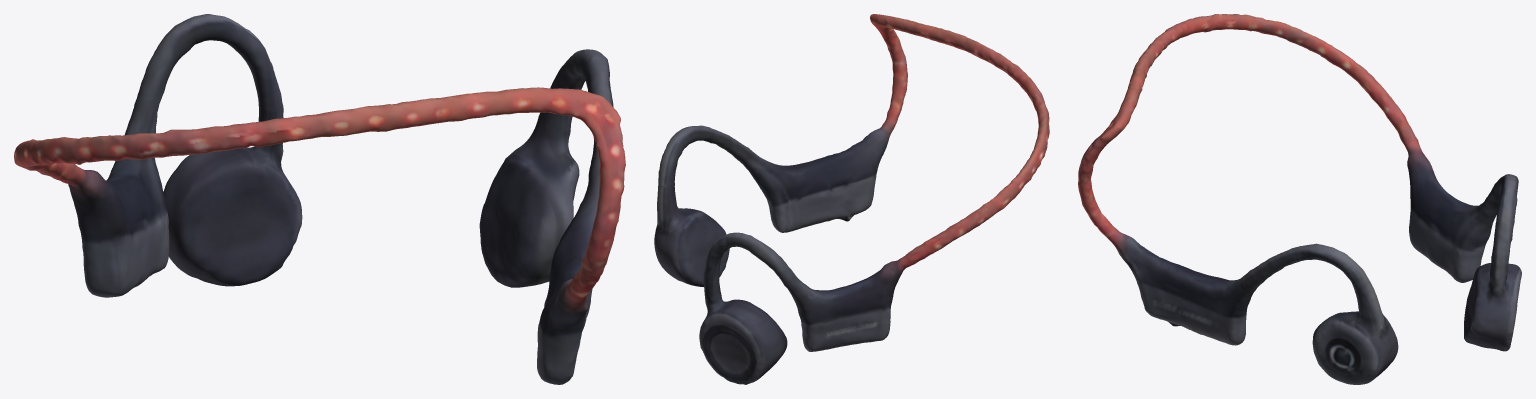
The model's file is 1737555523703-89d067f5-67f5-4a37-8a50-369d1c40d20a-headphone.glb.
3 views of the same model, side by side, from view 1: azimuth 30°, elevation 25°; view 2: azimuth 150°, elevation 25°; view 3: azimuth 270°, elevation 25° (orthographic). The views are drawn at different scales.
Parts seen in each view (by area): view 1: geometry_0; view 2: geometry_0; view 3: geometry_0.
Boxes of the visible parts, x1,y1,x2,y2 form: geometry_0: (14, 14, 625, 384); geometry_0: (654, 14, 1049, 384); geometry_0: (1078, 14, 1521, 384).
Bounding box in the file's own units: 0.8215 × 0.542 × 0.8439.
1 material, 1 textured.
